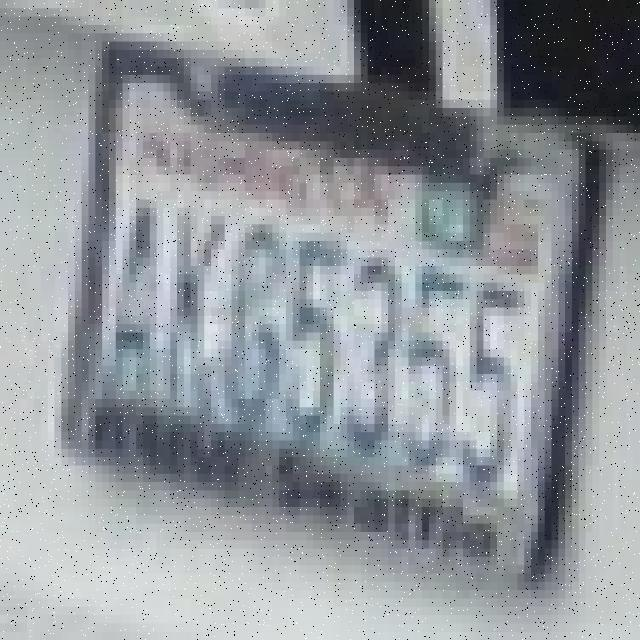LicensePlate: (90, 20, 580, 571)
